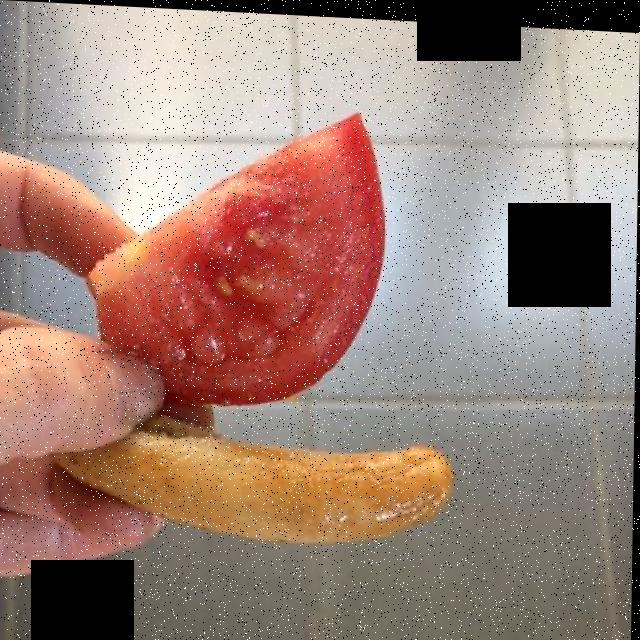tomato-raw: (81, 113, 417, 393)
veal-sausage: (45, 422, 450, 548)
